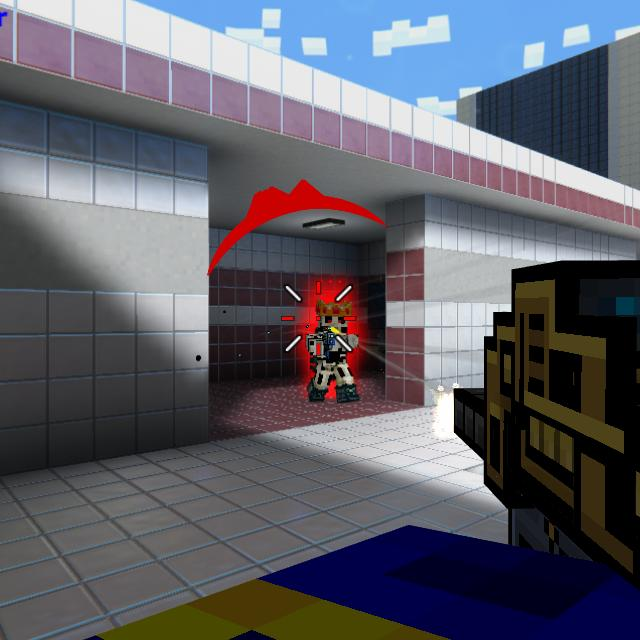Enemy: (303, 303, 359, 404)
